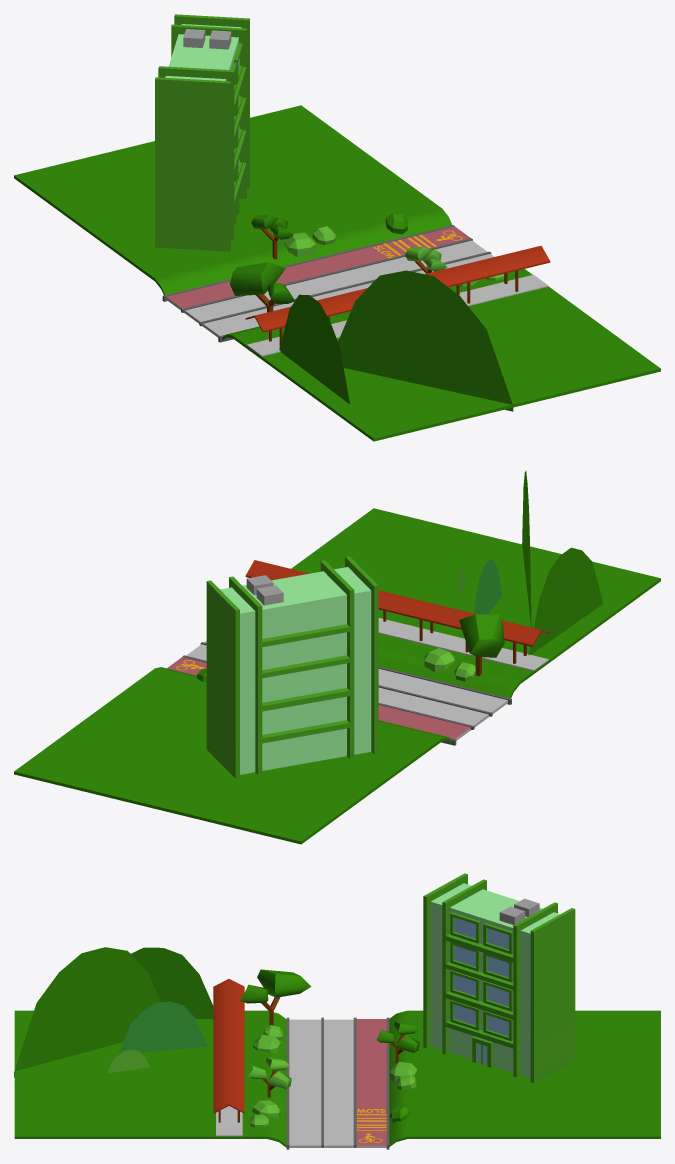
The model's file is Level 2 Chunk 1.fbx.
The picture shows the model from 3 angles, top to bottom: view 1: azimuth 30°, elevation 25°; view 2: azimuth 150°, elevation 25°; view 3: azimuth 270°, elevation 25°; orthographic projection. The views are drawn at different scales.
Parts seen in each view (by area): view 1: pCube7966, pCube7964, Building_D28, pasted__pasted__pCube5553, pCube7967, pasted__pCube5671, pCube7970, pCube7958, pCube7956, pCube7953, pCube7955, pCube7954 (+3 smaller); view 2: Building_D28, pCube7966, pCube7964, pasted__pCube5671, pCube7967, pCube7958, pCube7953, pCube7970, pCube7956, pasted__pasted__pCube5552, pasted__pasted__pCube5553, Bushes197; view 3: Building_D28, pCube7966, pCube7964, pasted__pasted__pCube5553, pCube7967, pCube7958, pCube7970, pasted__pCube5671, pasted__pasted__pCube5552, pCube7956, pCube7955, pCube7954 (+5 smaller).
Boxes of the visible parts, bbox=[...] form: pCube7966: bbox=[14, 105, 451, 295]; pCube7964: bbox=[222, 269, 660, 441]; Building_D28: bbox=[155, 14, 249, 251]; pasted__pasted__pCube5553: bbox=[338, 270, 513, 411]; pCube7967: bbox=[166, 240, 494, 337]; pasted__pCube5671: bbox=[279, 294, 349, 404]; pCube7970: bbox=[166, 226, 470, 308]; pCube7958: bbox=[245, 245, 550, 332]; pCube7956: bbox=[230, 262, 294, 312]; pCube7953: bbox=[247, 274, 548, 356]; pCube7955: bbox=[251, 214, 293, 259]; pCube7954: bbox=[405, 247, 447, 273]; Building_D28: bbox=[206, 556, 378, 778]; pCube7966: bbox=[14, 667, 452, 844]; pCube7964: bbox=[291, 508, 660, 698]; pasted__pCube5671: bbox=[528, 547, 603, 655]; pCube7967: bbox=[186, 641, 507, 740]; pCube7958: bbox=[245, 560, 550, 646]; pCube7953: bbox=[378, 618, 548, 670]; pCube7970: bbox=[167, 657, 470, 738]; pCube7956: bbox=[459, 614, 504, 676]; pasted__pasted__pCube5552: bbox=[474, 559, 501, 614]; pasted__pasted__pCube5553: bbox=[522, 470, 531, 627]; Bushes197: bbox=[424, 648, 454, 672]; Building_D28: bbox=[423, 873, 575, 1082]; pCube7966: bbox=[389, 1010, 660, 1146]; pCube7964: bbox=[14, 1010, 286, 1147]; pasted__pasted__pCube5553: bbox=[14, 947, 160, 1077]; pCube7967: bbox=[289, 1019, 386, 1147]; pCube7958: bbox=[213, 979, 244, 1113]; pCube7970: bbox=[356, 1019, 386, 1145]; pasted__pCube5671: bbox=[131, 947, 213, 1018]; pasted__pasted__pCube5552: bbox=[118, 1001, 207, 1054]; pCube7956: bbox=[240, 969, 311, 1025]; pCube7955: bbox=[376, 1021, 419, 1063]; pCube7954: bbox=[248, 1057, 291, 1097].
Bounding box in the file's own units: 12.39 × 7.52 × 26.58.
Materials: 1 (1 with a texture image).
